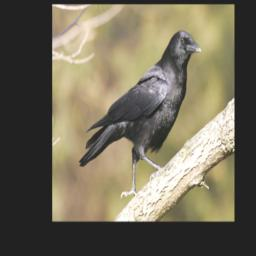Crow: (79, 29, 205, 203)
